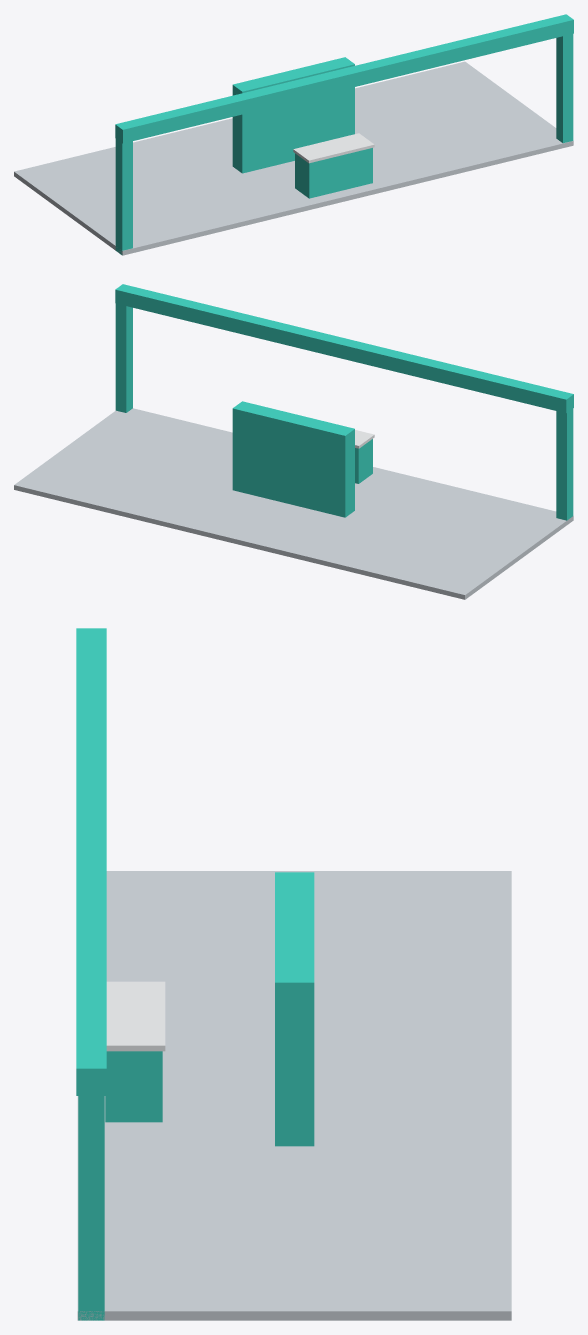
3 views of the same model, one above another, from view 1: azimuth 30°, elevation 25°; view 2: azimuth 150°, elevation 25°; view 3: azimuth 270°, elevation 25° (orthographic). The views are drawn at different scales.
Visible parts, largest first — view 1: Exhibition Booth Concept; view 2: Exhibition Booth Concept; view 3: Exhibition Booth Concept.
Part boxes in pixels (bbox=[...]): Exhibition Booth Concept: bbox=[14, 14, 573, 255]; Exhibition Booth Concept: bbox=[14, 284, 573, 599]; Exhibition Booth Concept: bbox=[76, 628, 511, 1320].
Bounding box in the file's own units: 12 × 3.2 × 5.02.
